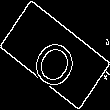O_NE: (25, 22, 85, 88)
